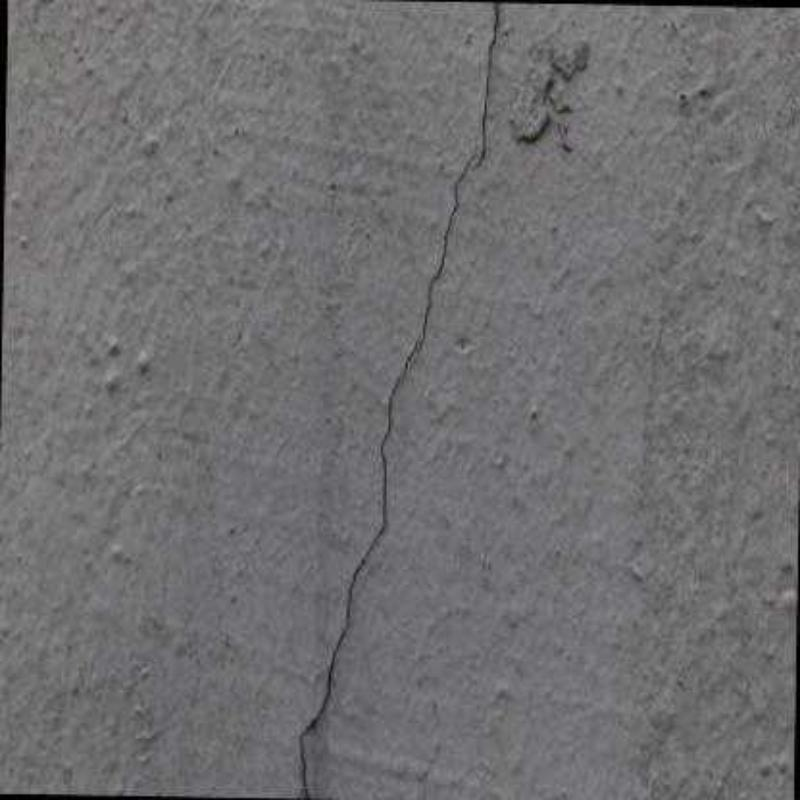crack: (300, 149, 475, 797), (480, 3, 498, 160)
